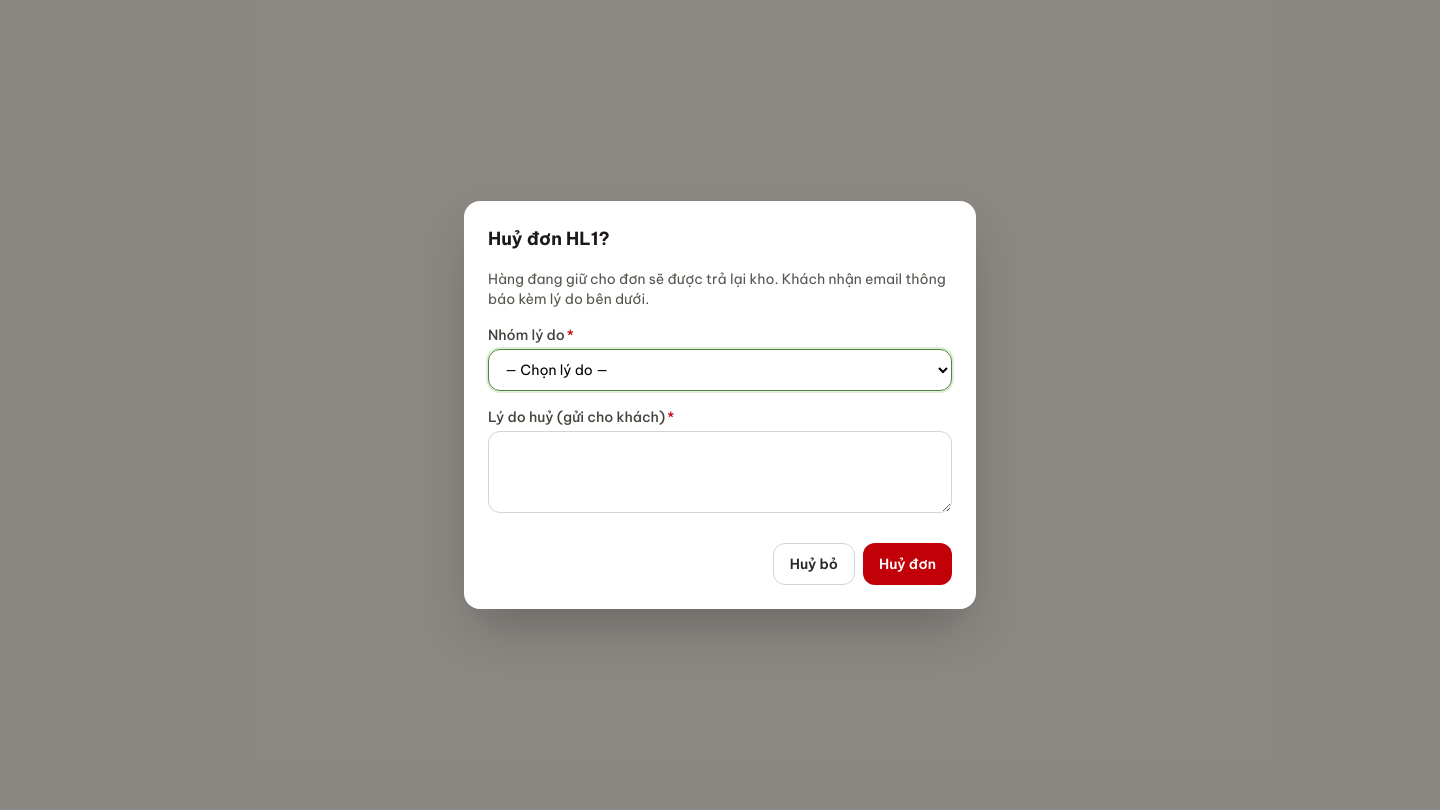
it: CancelDialog › shows the server message when the order can no longer be cancelled
This screenshot has width=1440, height=810.
Select "Lý do khác" in the dropdown labelled "Nhóm lý do" at (720, 370), box x1=488 y1=349 x2=952 y2=391
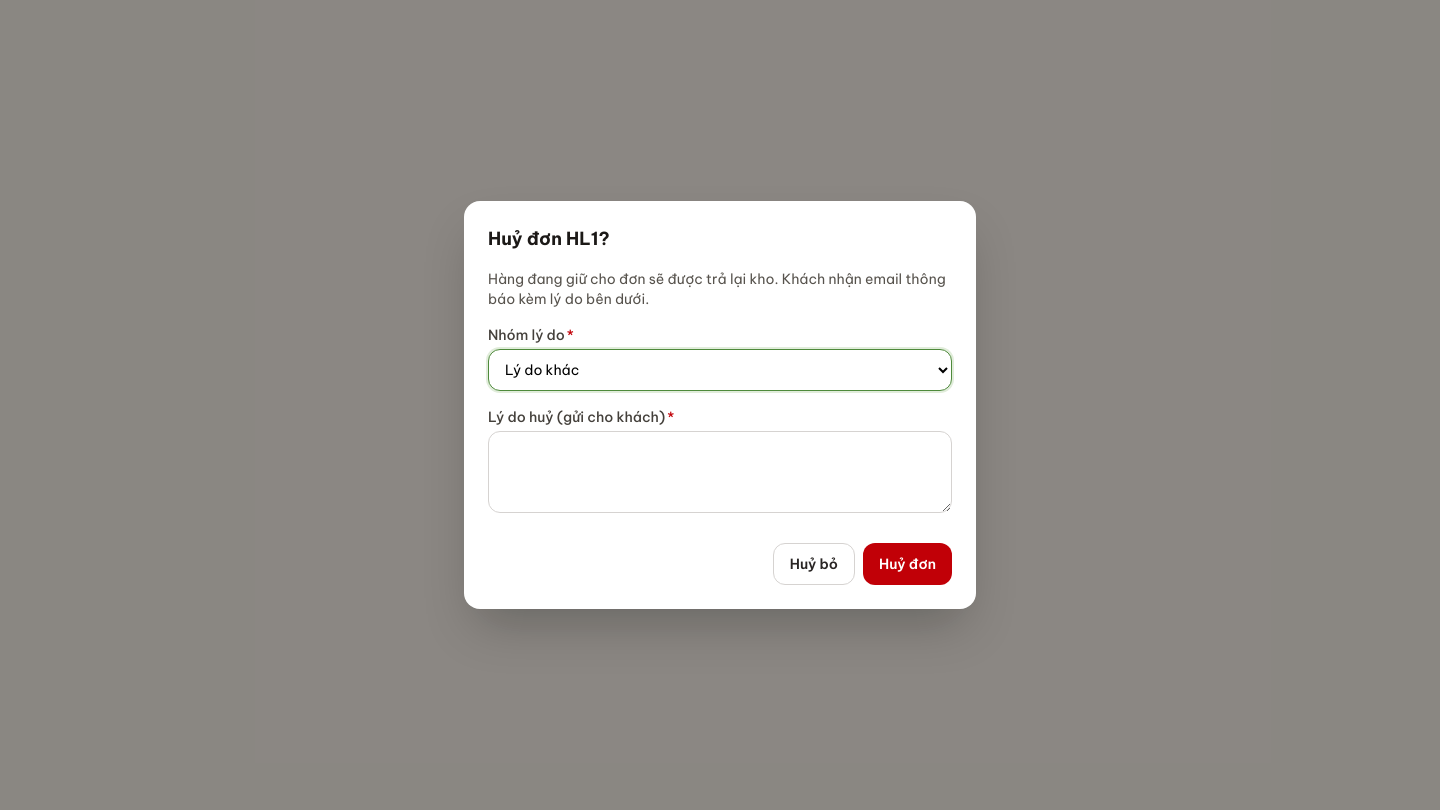
Type "Khách đổi ý" into the text box labelled "Lý do huỷ (gửi cho khách)" at (720, 472), box x1=488 y1=431 x2=952 y2=513
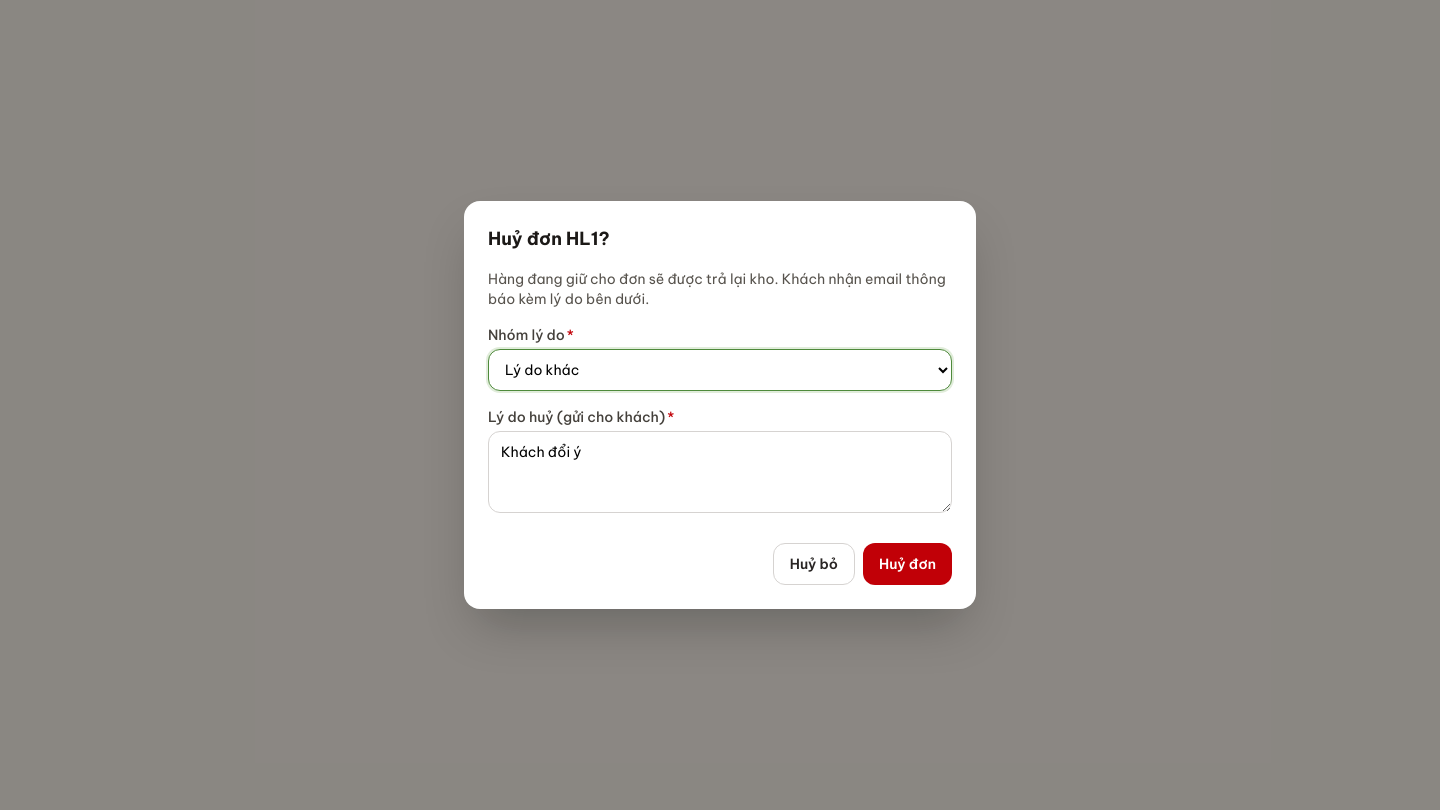
Click the button "Huỷ đơn" at (908, 564), box x1=863 y1=543 x2=952 y2=585
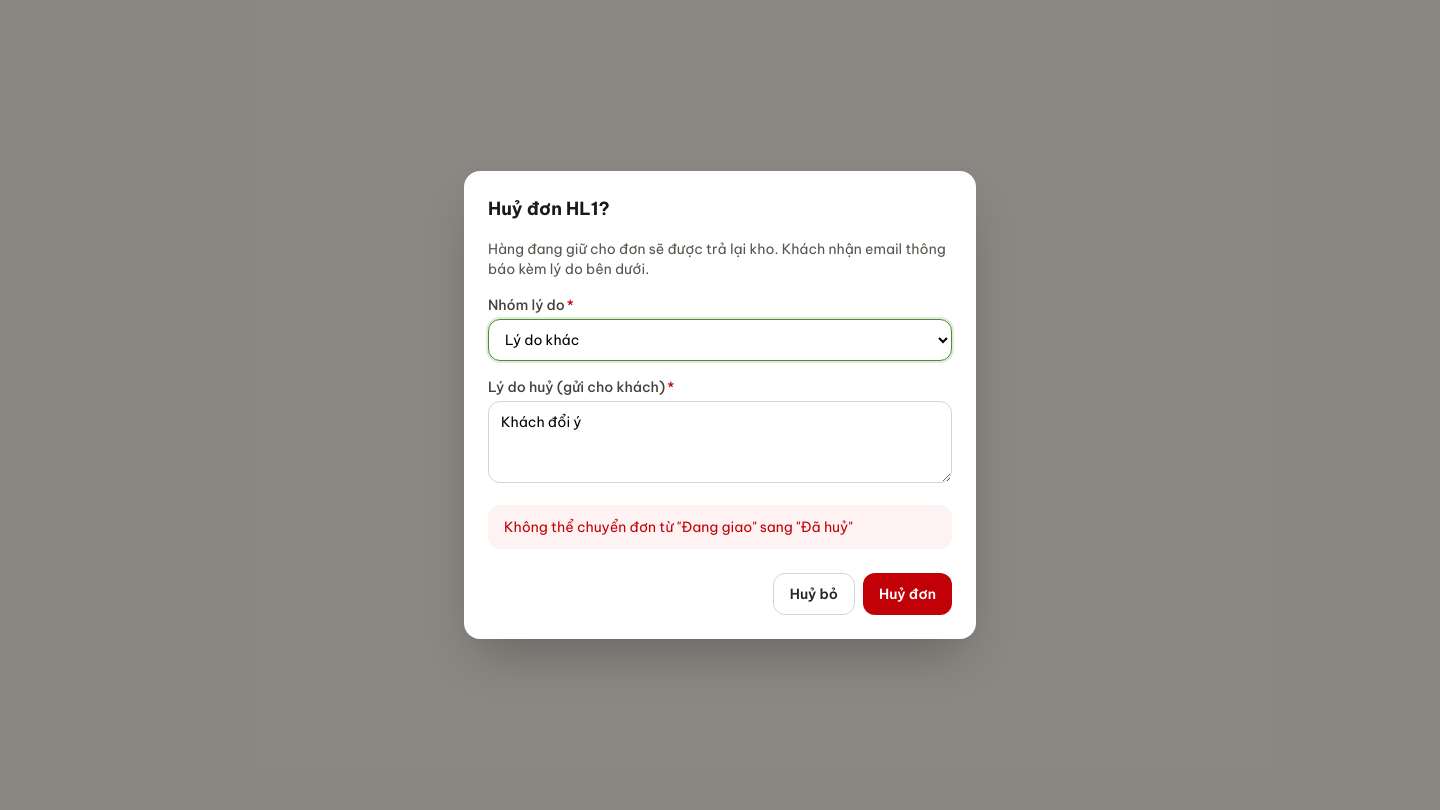
Expected: the message shows "Đang giao", x1=504 y1=518 x2=853 y2=536
